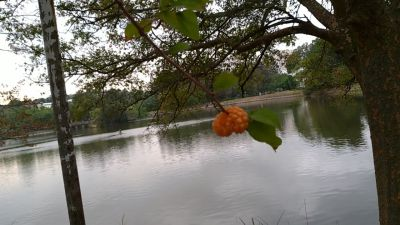eggs: (210, 104, 250, 139)
